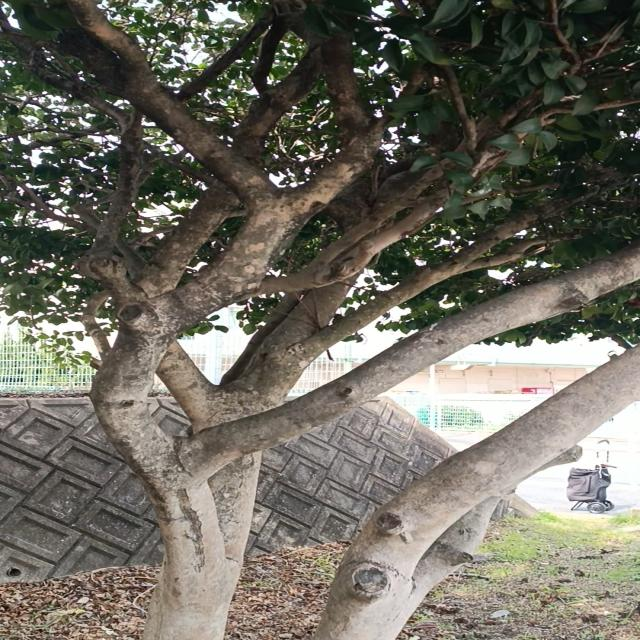Branch: (70, 1, 310, 476), (175, 248, 639, 482), (142, 47, 320, 282), (234, 165, 374, 388), (76, 257, 219, 418), (301, 14, 380, 201)
Twig: (285, 88, 525, 275), (308, 195, 554, 357), (328, 141, 503, 285), (52, 85, 145, 255), (179, 4, 278, 101), (253, 0, 298, 95)
